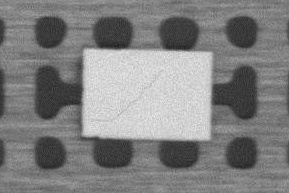DIE_CRACK: (114, 69, 163, 120)
